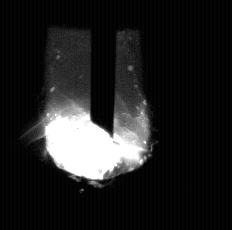arame: (90, 0, 115, 138)
poca: (45, 0, 145, 230)
